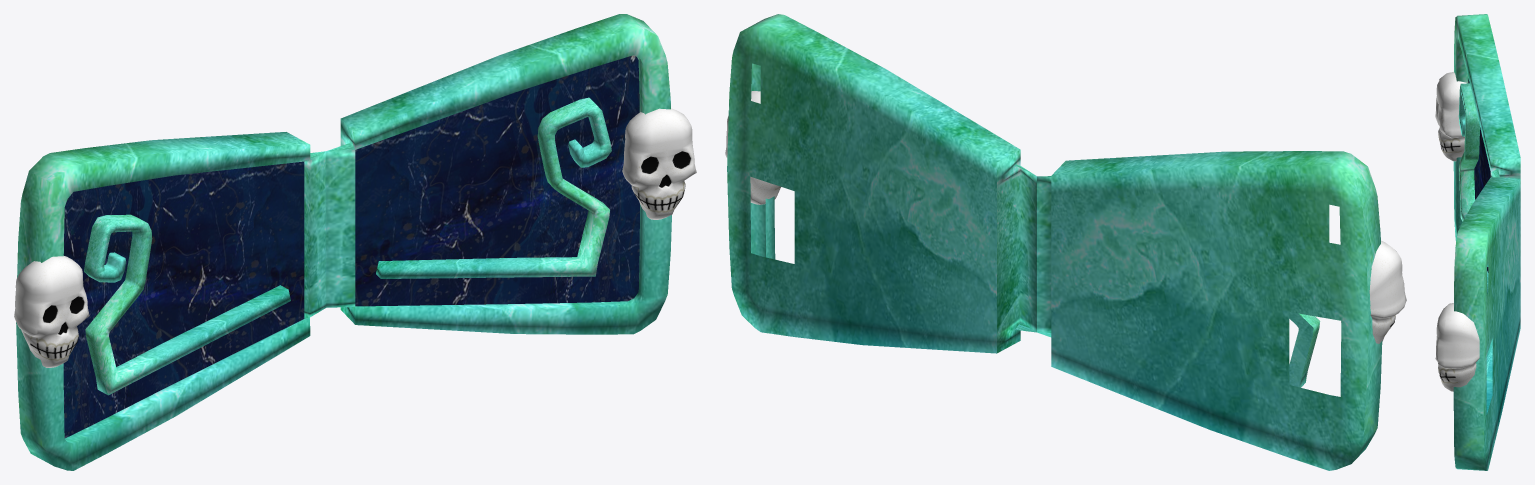
File: calacaaa 1.fbx
The picture shows the model from 3 angles, left to right: view 1: azimuth 30°, elevation 25°; view 2: azimuth 150°, elevation 25°; view 3: azimuth 270°, elevation 25°; orthographic projection. The views are drawn at different scales.
Visible parts, largest first — view 1: polySurface28, polySurface29, polySurface21, polySurface25; view 2: polySurface29, polySurface25, polySurface21; view 3: polySurface29, polySurface25, polySurface21, polySurface28.
Boxes of the visible parts, x1=… form: polySurface28: x1=63, y1=55, x2=639, y2=438; polySurface29: x1=16, y1=14, x2=671, y2=470; polySurface21: x1=84, y1=97, x2=611, y2=395; polySurface25: x1=14, y1=108, x2=696, y2=367; polySurface29: x1=727, y1=14, x2=1382, y2=470; polySurface25: x1=725, y1=91, x2=1406, y2=343; polySurface21: x1=1289, y1=312, x2=1320, y2=387; polySurface29: x1=1453, y1=14, x2=1520, y2=470; polySurface25: x1=1435, y1=72, x2=1479, y2=391; polySurface21: x1=1458, y1=83, x2=1488, y2=295; polySurface28: x1=1468, y1=78, x2=1490, y2=272.
Size of the model in its own units: 1.53 by 0.6654 by 0.2168.
